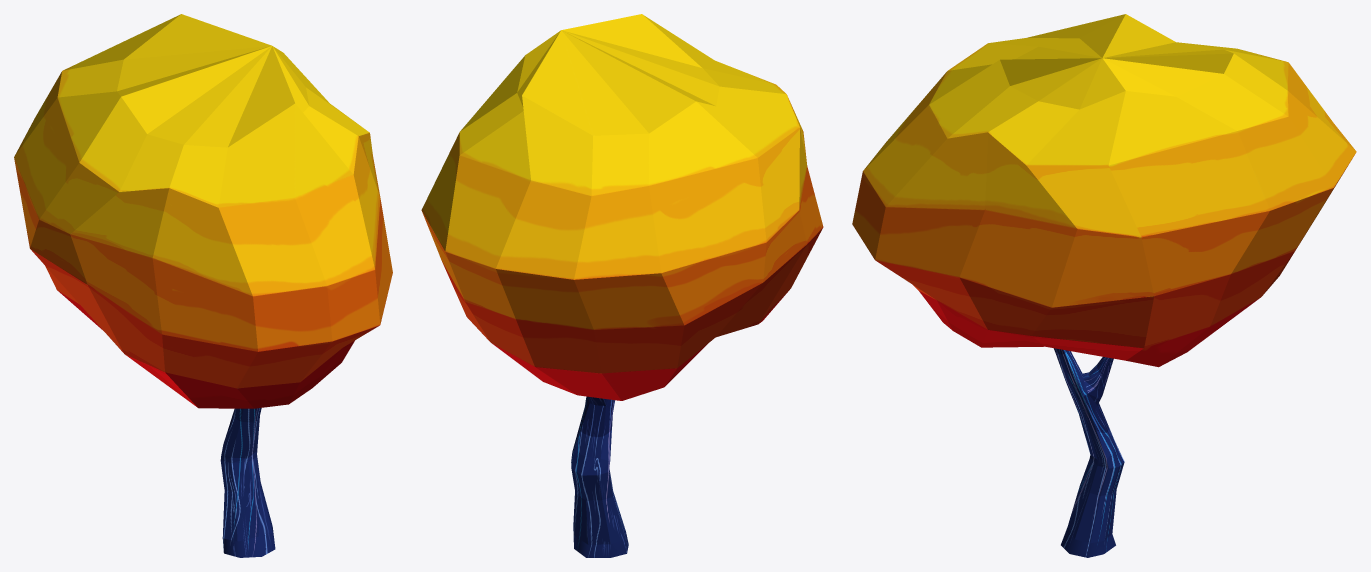
Rendered from tree 2 FBX.FBX.
3 views of the same model, side by side, from view 1: azimuth 30°, elevation 25°; view 2: azimuth 150°, elevation 25°; view 3: azimuth 270°, elevation 25° (orthographic). The views are drawn at different scales.
Visible parts, largest first — view 1: Sphere001, Cylinder001; view 2: Sphere001, Cylinder001; view 3: Sphere001, Cylinder001.
Boxes of the visible parts, x1,y1,x2,y2 form: Sphere001: (14, 14, 392, 408); Cylinder001: (220, 408, 275, 557); Sphere001: (421, 14, 823, 400); Cylinder001: (571, 396, 628, 557); Sphere001: (852, 14, 1356, 367); Cylinder001: (1054, 348, 1124, 557).
Bounding box in the file's own units: 108 × 165 × 150.
2 materials, 2 textured.
